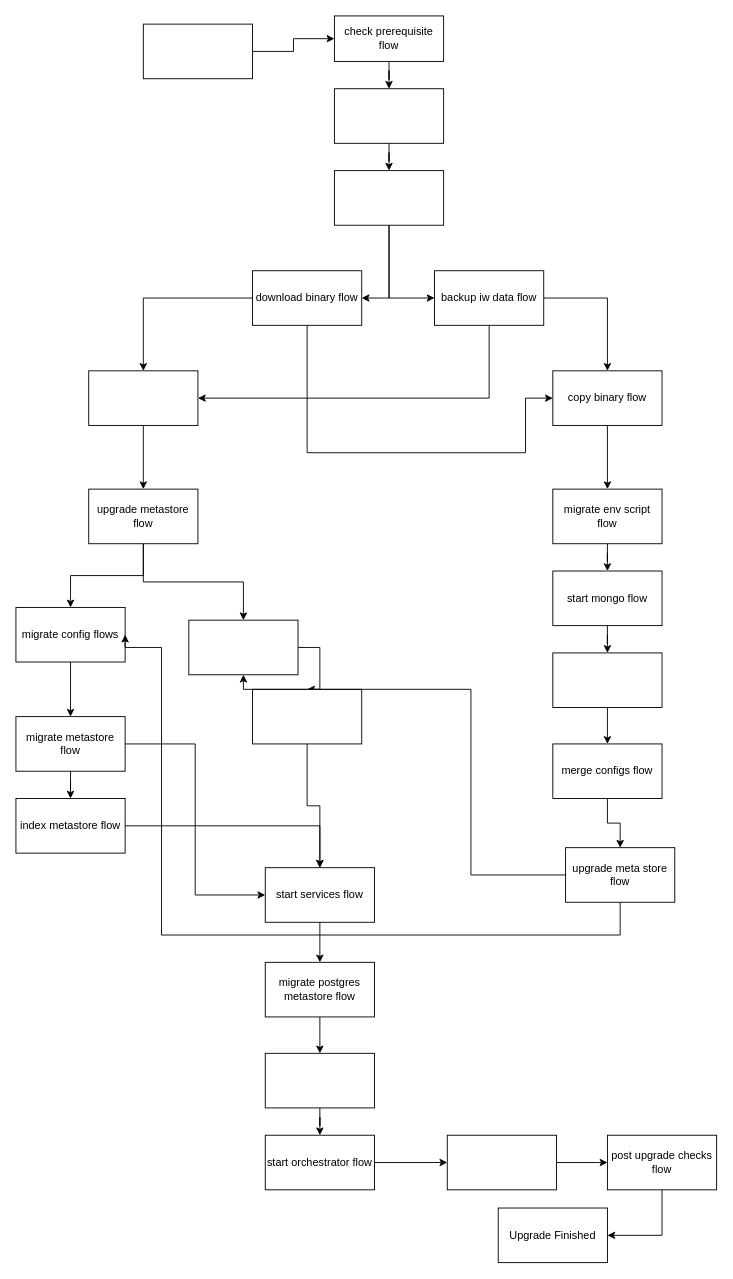
Some shapes in this 733 by 1279 pixel diagram are drawn without their labels. Each missing label, with the box of its shape:
Check services status flow: (334, 170, 444, 225)
check services status post flow: (446, 1134, 556, 1190)
cleanup recreate hdfs cache flow: (252, 688, 362, 744)
copy version files flow: (88, 370, 198, 425)
refresh kerberos ticket flow: (188, 619, 298, 675)
start config service flow: (552, 652, 662, 708)
stop services flow: (334, 88, 444, 143)
upgrade orchestrator engine flow: (264, 1052, 374, 1108)
Upgrade Starts: (142, 23, 253, 79)
